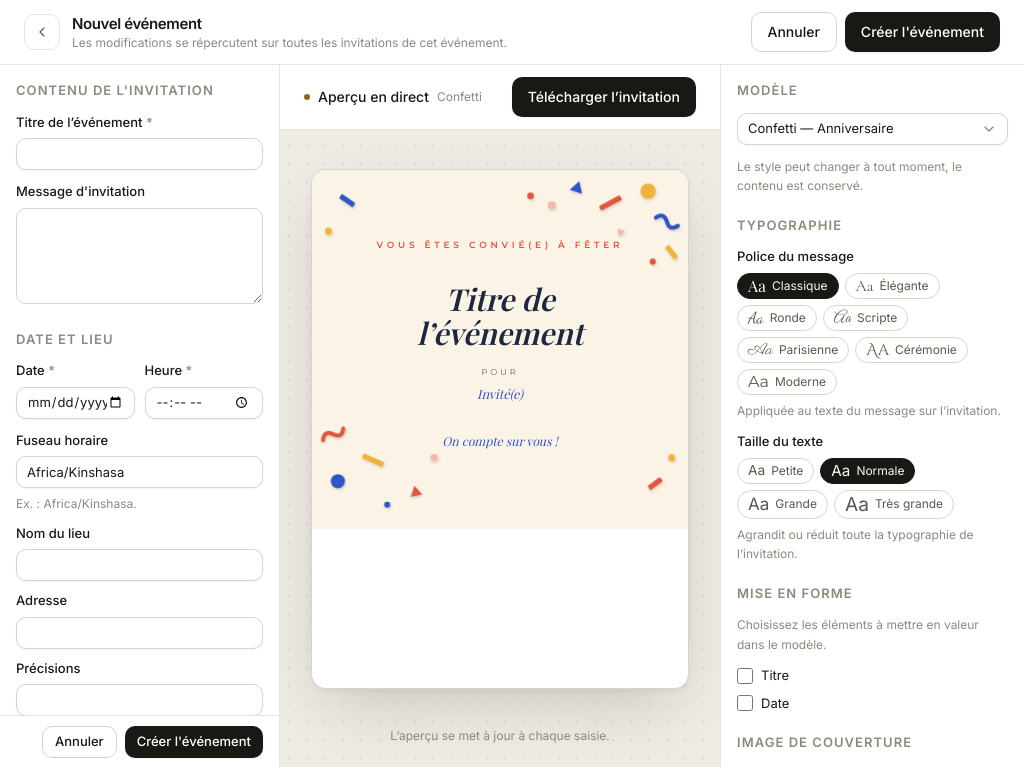
EventEditorPage › requires a title before saving
The image size is (1024, 767).
Step 1. Click the button "Créer l'événement" in the row of "Nouvel événement" → [922, 32], box [845, 12, 1000, 52]
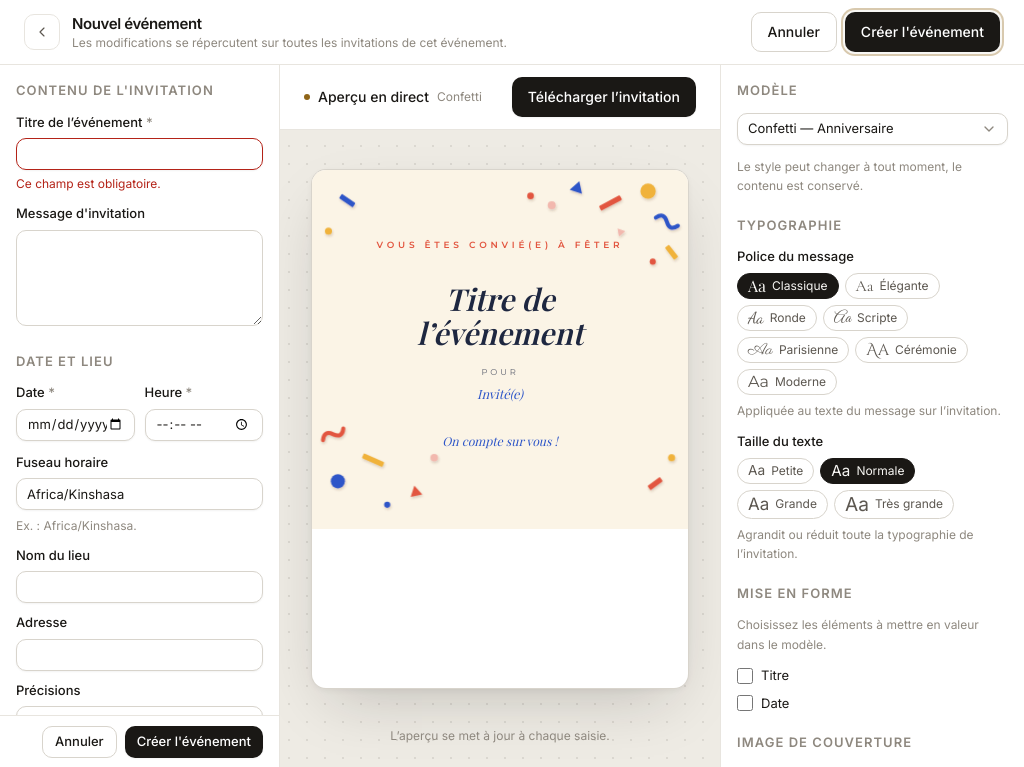
Expected: the text "Ce champ est obligatoire." is shown, [16, 176, 161, 191]
